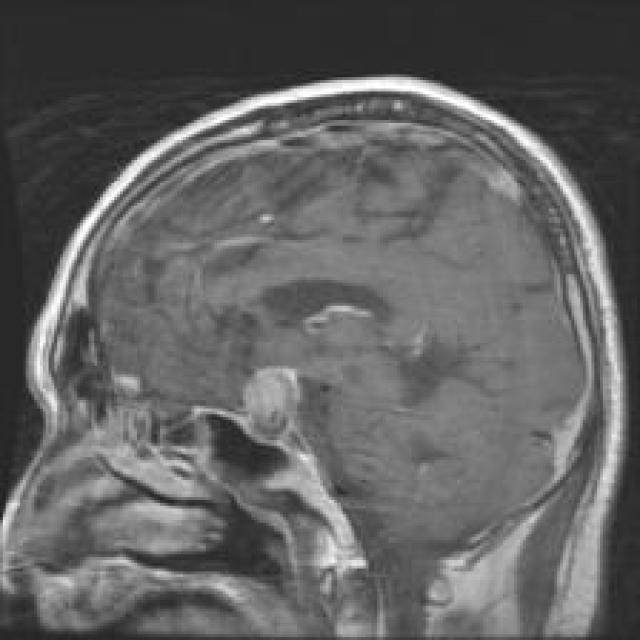pituitary_tumor: (235, 344, 324, 455)
